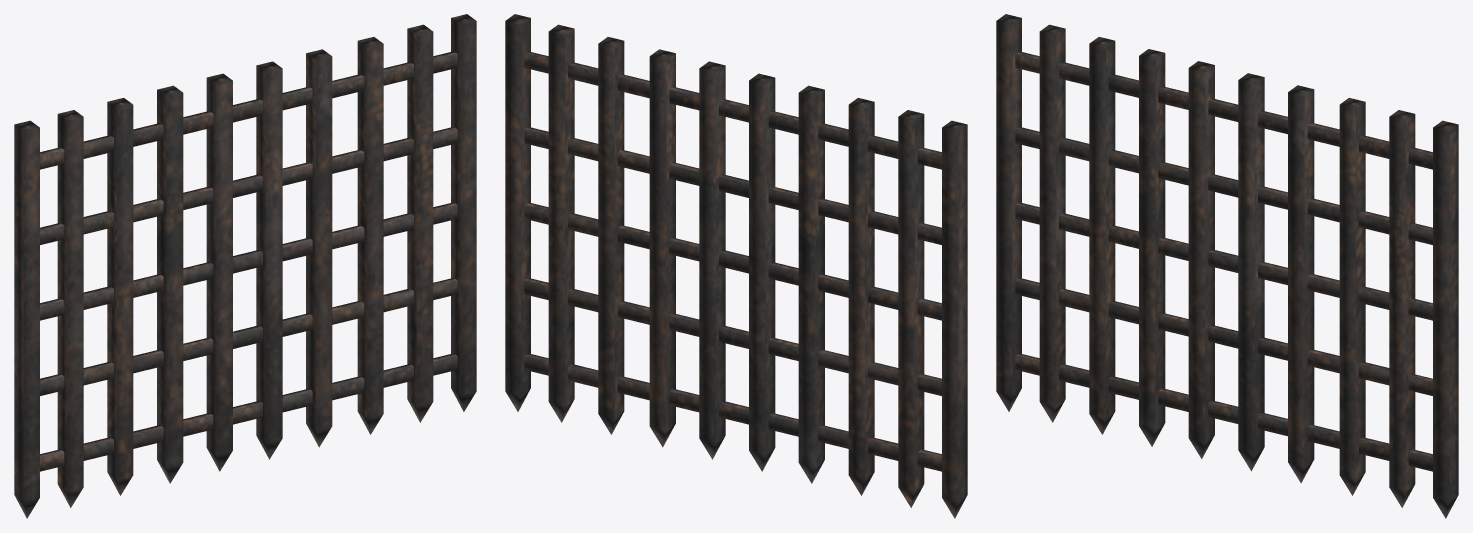
File: gate.glb
3 views of the same model, side by side, from view 1: azimuth 30°, elevation 25°; view 2: azimuth 150°, elevation 25°; view 3: azimuth 330°, elevation 25° (orthographic).
Parts seen in each view (by area): view 1: gate; view 2: gate; view 3: gate.
Part boxes in pixels (box(x1,y1,x2,y2)): gate: box(14, 14, 476, 518); gate: box(505, 14, 967, 518); gate: box(996, 14, 1458, 518).
Bounding box in the file's own units: 8.66 × 7.18 × 0.3166.
Materials: 1 (1 with a texture image).
